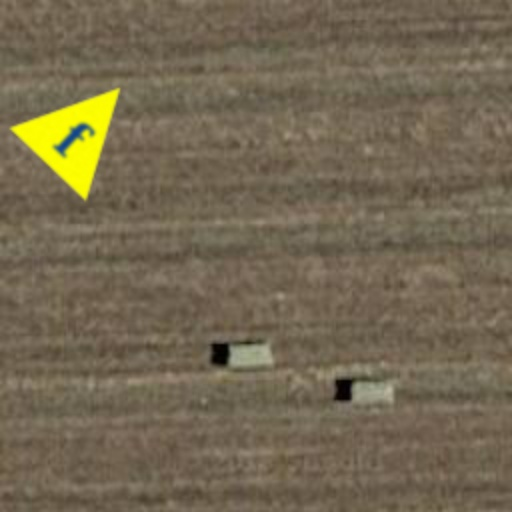triangle: (8, 50, 160, 202)
